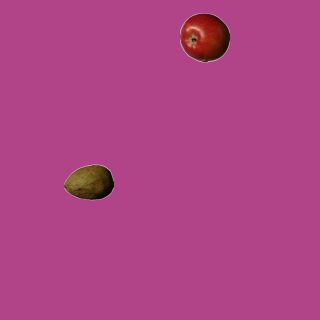Apple Braeburn: (179, 12, 229, 62)
Papaya: (63, 157, 113, 207)
